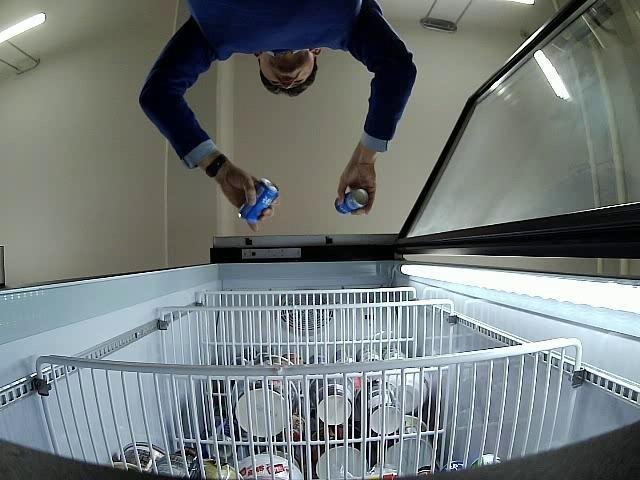15_letsbe: (238, 178, 278, 226), (335, 188, 369, 216)
